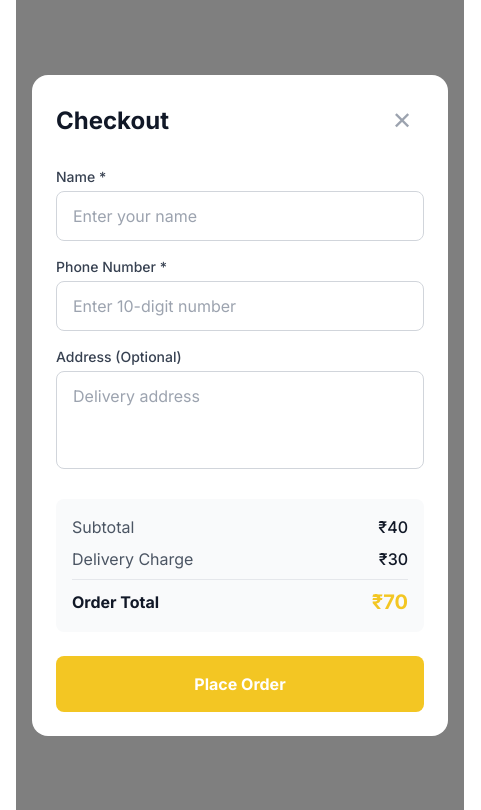
Test case: CheckoutForm Component › validates phone number format
The image size is (481, 810).
Type "John Doe" into the field with placeholder "Enter your name" at coordinates (240, 216), box [56,190,424,240]
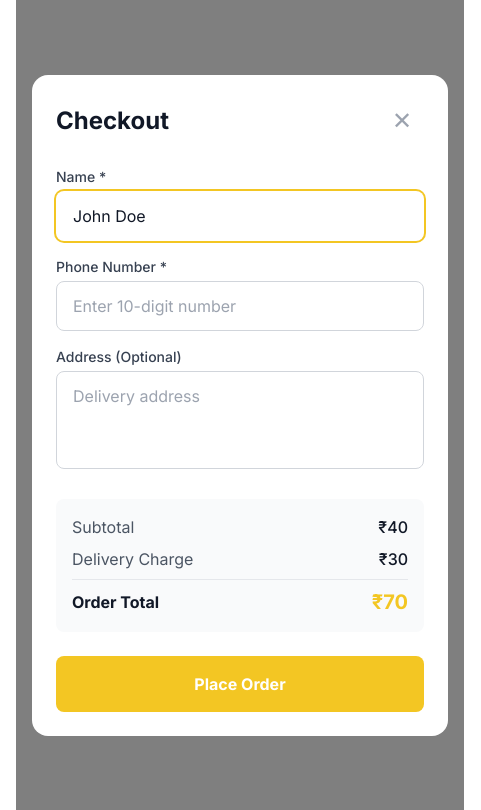
Type "123" into the field with placeholder "Enter 10-digit number" at coordinates (240, 306), box [56,280,424,330]
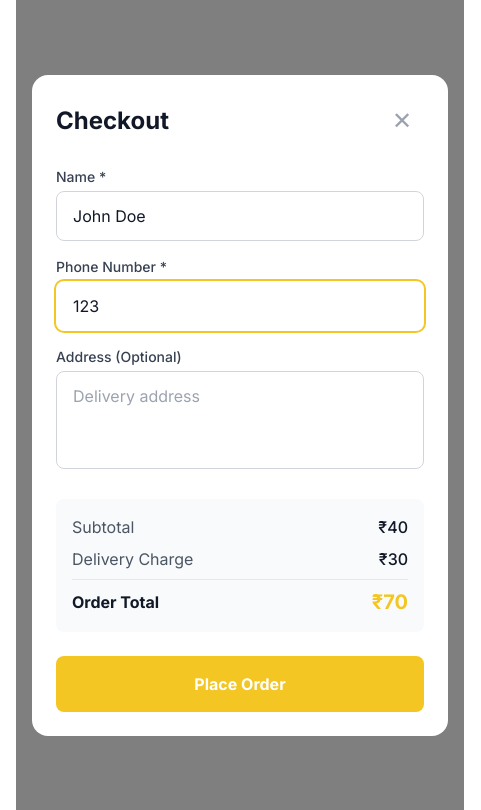
Click the button "Place Order" at coordinates (240, 684), box [56,656,424,712]
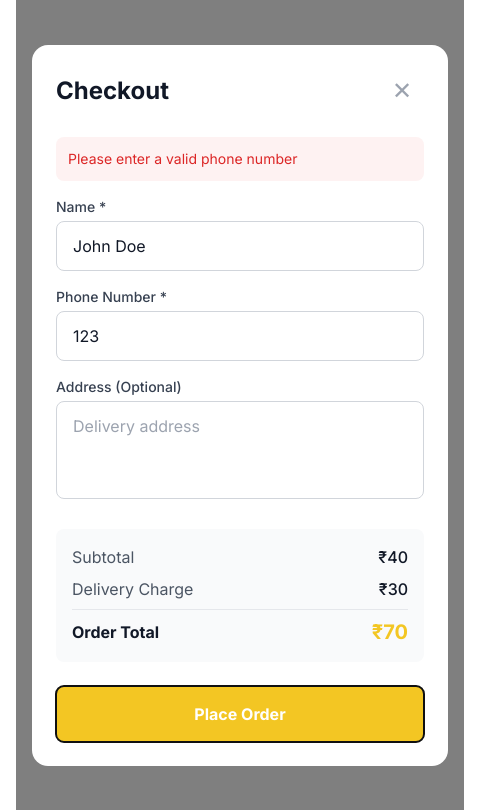
Now the text "Please enter a valid phone number" is shown, box [56,136,424,180]
